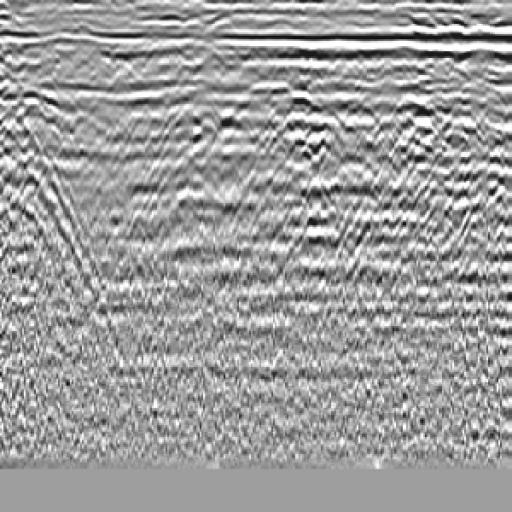metalic: (160, 104, 228, 162)
